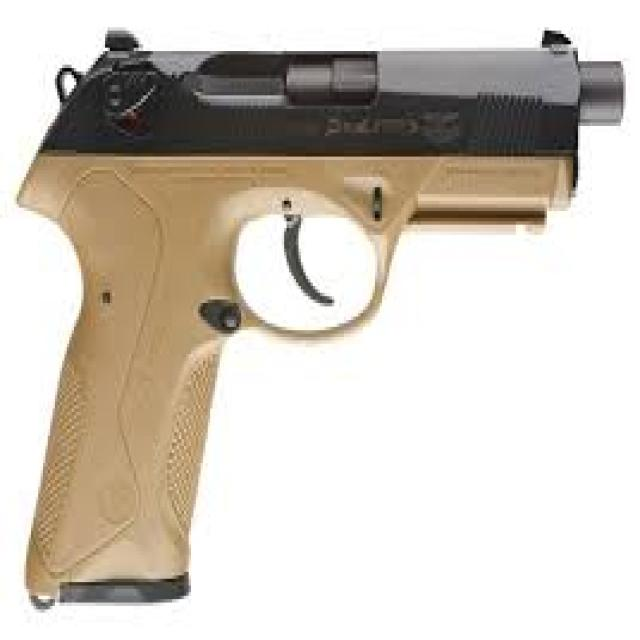pistol: (13, 12, 630, 613)
